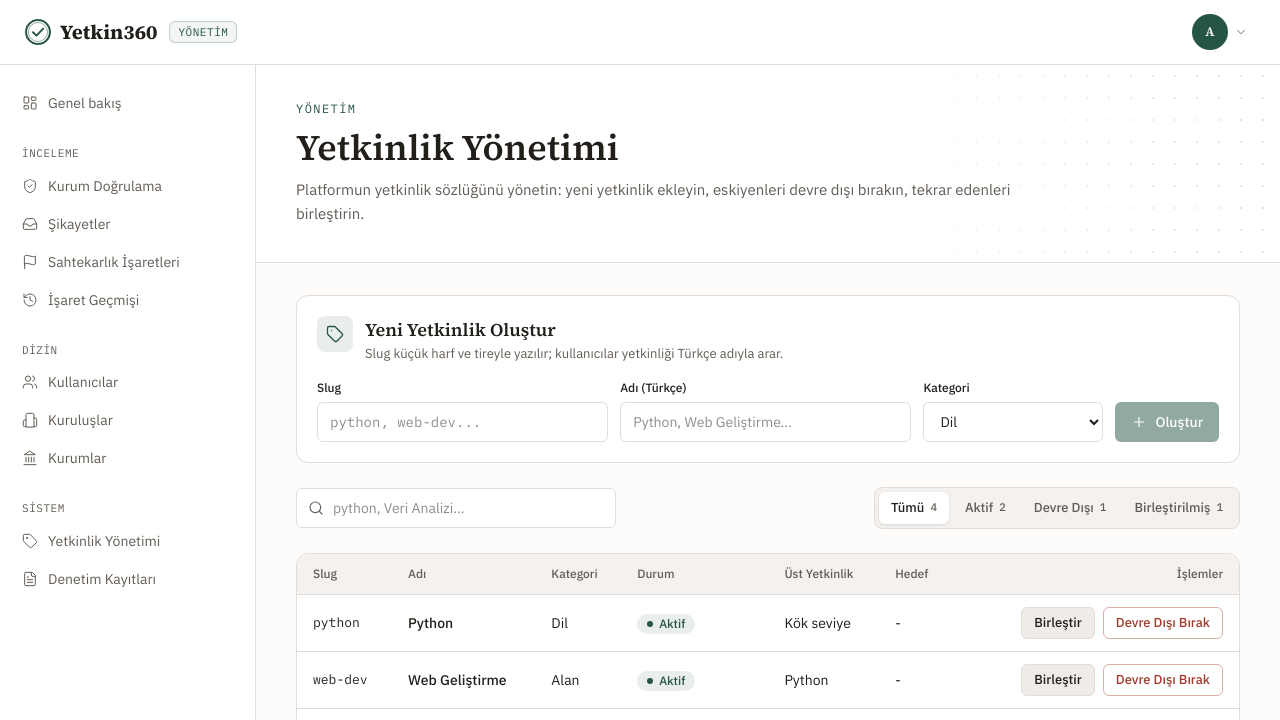
SkillerPage (/admin/skiller) › AC-7: skill deprecate — status DEPRECATED olarak güncellenir
The image size is (1280, 720).
Expected: the text "python" is shown, [297,594,392,651]
Click the 1st button "Devre Dışı Bırak".
click(1163, 622)  # box [1103,606,1223,638]
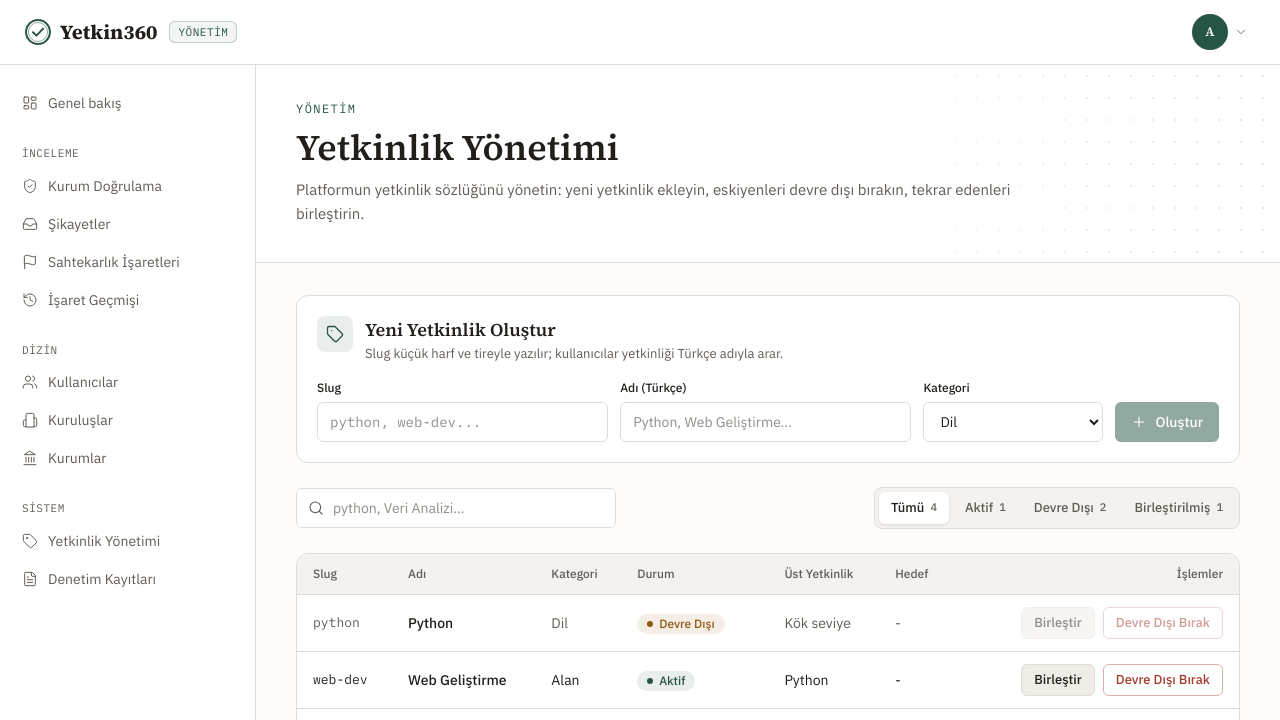
Now the text "Devre Dışı" is shown, box [637,614,725,634]
